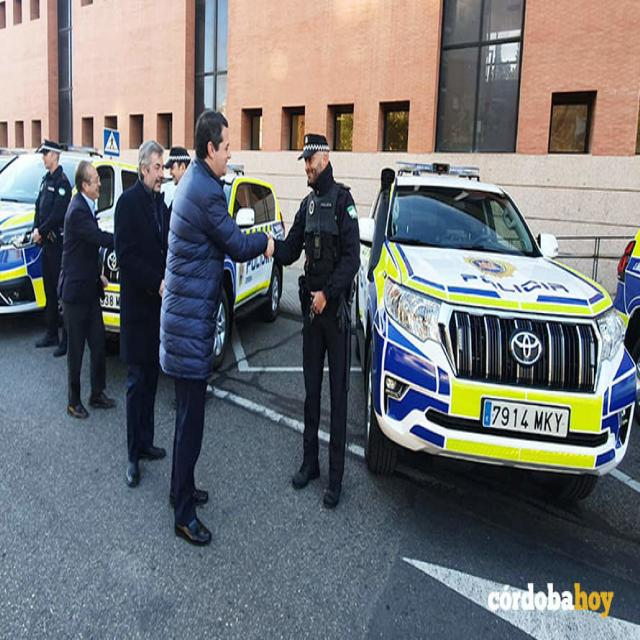license_plate-34Td: (482, 399, 570, 438)
